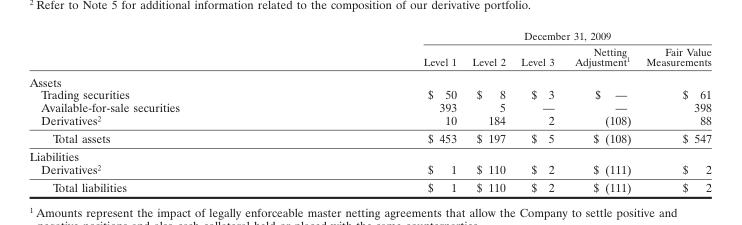table: (28, 29, 710, 194)
table column: (28, 29, 300, 194), (300, 29, 463, 194), (564, 29, 638, 194), (638, 29, 710, 194), (512, 29, 564, 194), (463, 29, 512, 194)
table column header: (28, 29, 710, 70)
table projected row header: (28, 70, 710, 87), (28, 147, 710, 162)
table row: (28, 43, 710, 70), (28, 129, 710, 147), (28, 70, 710, 87), (28, 113, 710, 129), (28, 162, 710, 178), (28, 178, 710, 194), (28, 147, 710, 162), (28, 29, 710, 43), (28, 87, 710, 100), (28, 100, 710, 113)
table spanning cell: (300, 29, 710, 43)
